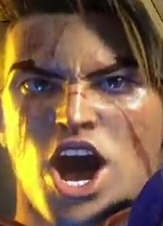kevin: (10, 12, 162, 217)
